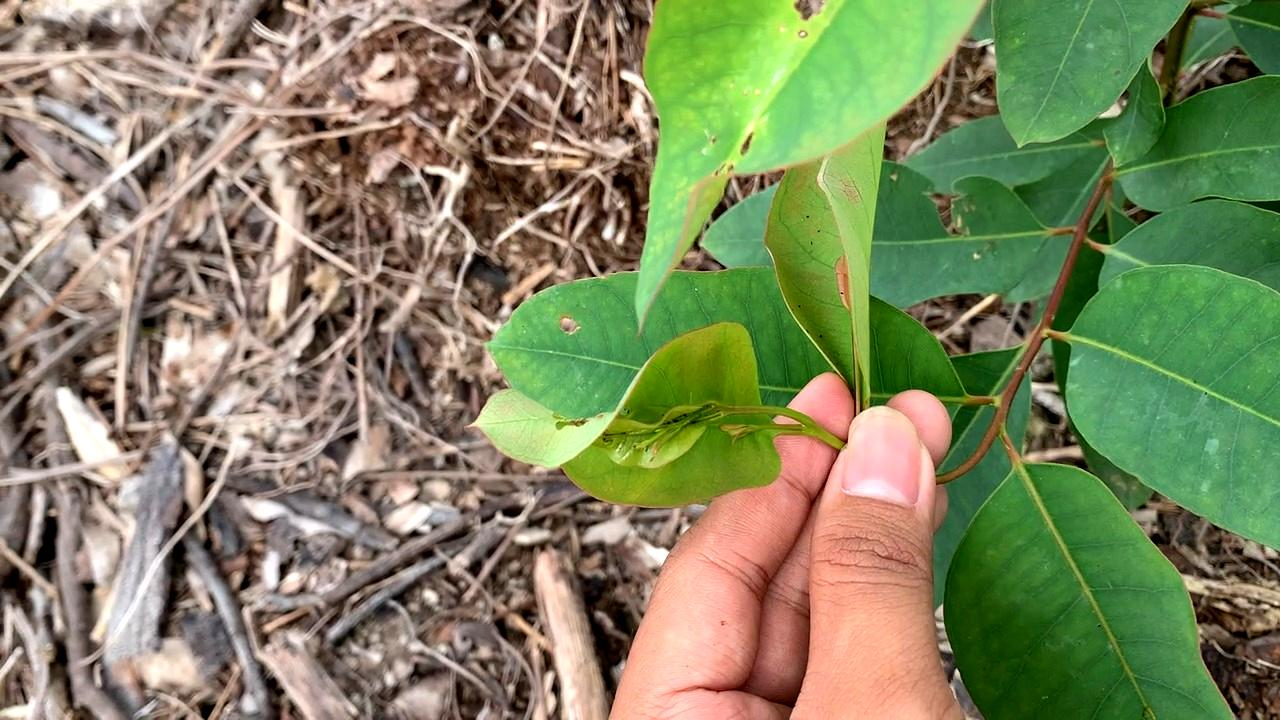Leaf Roller - Leaf: (466, 317, 778, 509)
